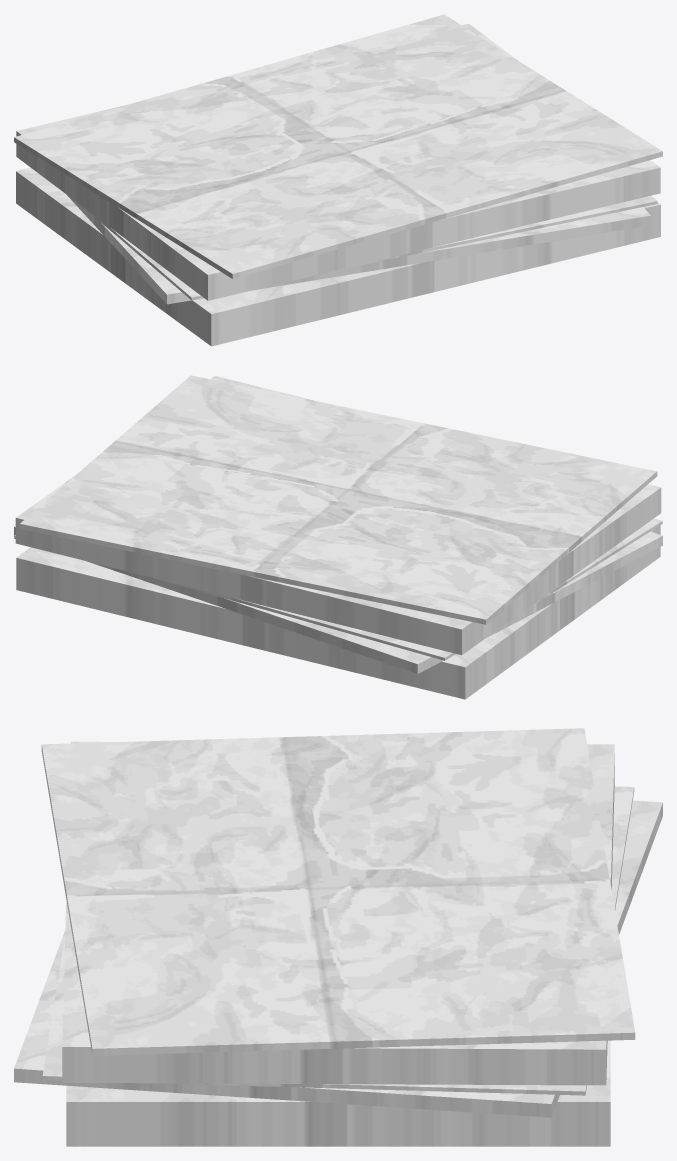
File: PileO'Paper.fbx
3 renders of one model, top to bottom at view 1: azimuth 30°, elevation 25°; view 2: azimuth 150°, elevation 25°; view 3: azimuth 270°, elevation 25°, orthographic. The views are drawn at different scales.
Parts seen in each view (by area): view 1: 518 Paper; view 2: 518 Paper; view 3: 518 Paper.
Boxes of the visible parts, box(x1,y1,x2,y2) form: 518 Paper: box(14, 14, 662, 346); 518 Paper: box(14, 375, 662, 699); 518 Paper: box(14, 728, 662, 1146).
Bounding box in the file's own units: 5888 × 860 × 4791.
1 material, 1 textured.
